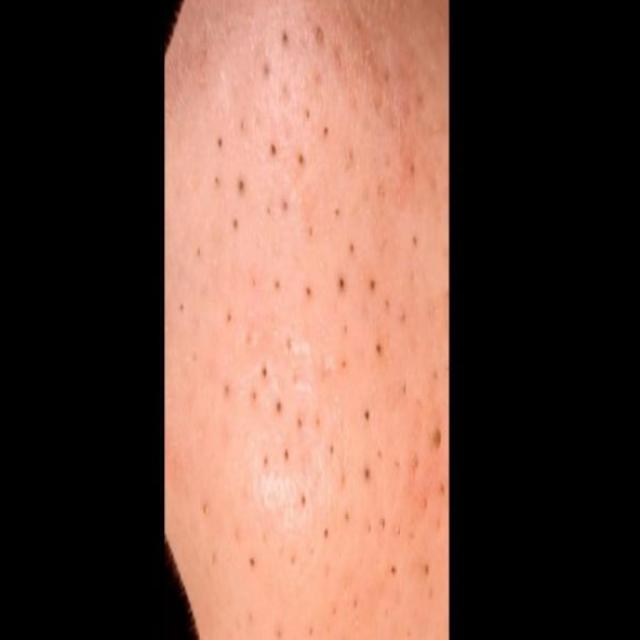blackhead: (200, 12, 416, 578)
